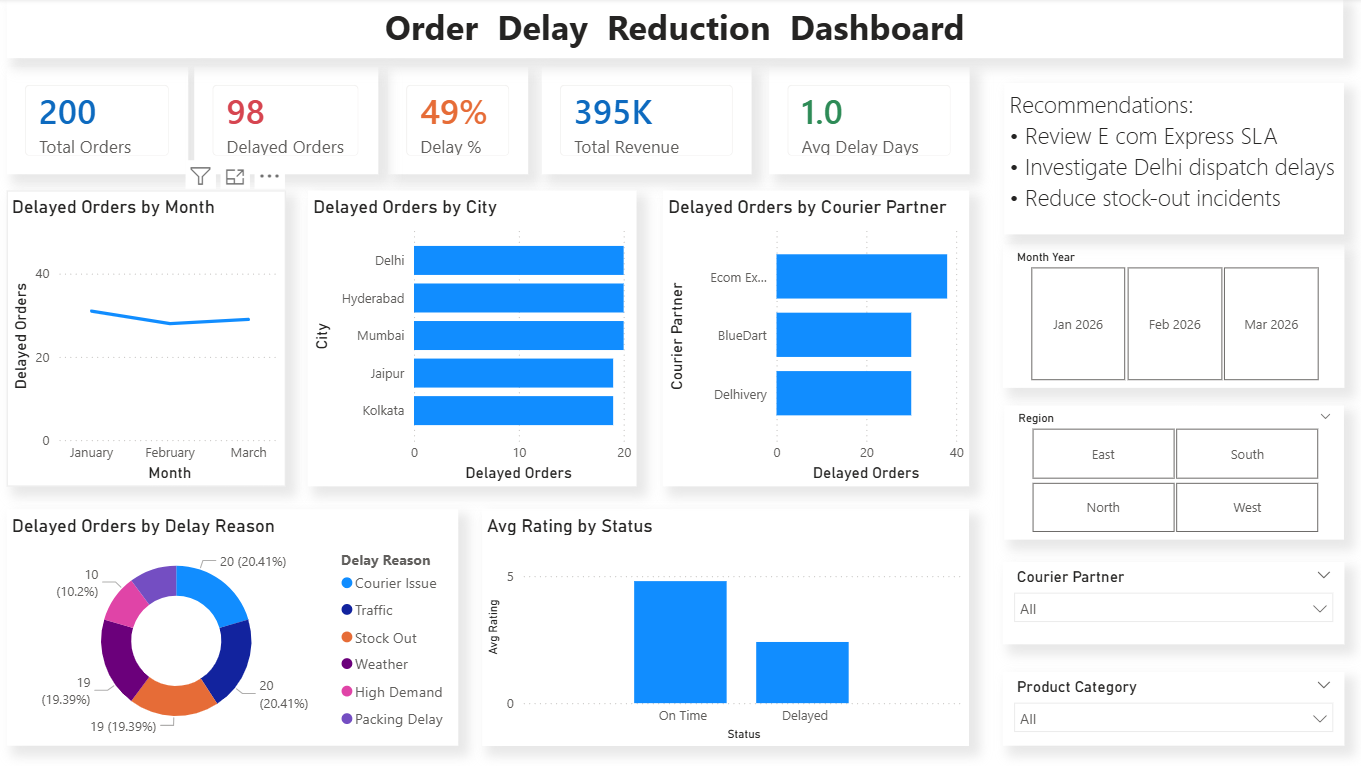

This screenshot's page, from the dashboard's own definition file:
{"tool":"powerbi","page":{"name":"Executive Summary","canvas":[1280,720],"ordinal":0},"visuals":[{"type":"cardVisual","fields":{"Data":["Table1.Total Orders"]},"box":[17.4,64,168.6,100],"z":0},{"type":"cardVisual","fields":{"Data":["Table1.Delay %"]},"box":[372.1,64,130.2,100],"z":1000},{"type":"cardVisual","fields":{"Data":["Table1.Total Revenue"]},"box":[515.1,64,195.3,100],"z":2000},{"type":"cardVisual","fields":{"Data":["Table1.Delayed Orders"]},"box":[191.9,64,170.9,100],"z":3000},{"type":"cardVisual","fields":{"Data":["Table1.Avg Delay Days"]},"box":[726.7,64,186,100],"z":4000},{"type":"lineChart","title":"Delayed Orders by Month ","fields":{"Category":["Table1.Order Date.Variation.Date Hierarchy.Month"],"Y":["Table1.Delayed Orders"]},"box":[17.4,179.1,259.3,275.6],"z":5000},{"type":"clusteredBarChart","fields":{"Category":["Table1.City"],"Y":["Table1.Delayed Orders"]},"box":[297.7,179.1,305.8,275.6],"z":6000},{"type":"clusteredBarChart","fields":{"Category":["Table1.Courier Partner"],"Y":["Table1.Delayed Orders"]},"box":[627.9,179.1,284.9,275.6],"z":7000},{"type":"donutChart","fields":{"Category":["Table1.Delay Reason"],"Y":["Table1.Delayed Orders"]},"box":[17.4,475.6,419.8,219.8],"z":8000},{"type":"columnChart","fields":{"Category":["Table1.Status"],"Y":["Table1.Avg Rating"]},"box":[459.3,475.6,453.5,219.8],"z":9000},{"type":"slicer","fields":{"Values":["Table1.Month Year"]},"box":[944.2,229.1,317.4,133.7],"z":10000},{"type":"slicer","fields":{"Values":["Table1.Region"]},"box":[945.4,379.1,316.3,124.4],"z":11000},{"type":"slicer","fields":{"Values":["Table1.Courier Partner"]},"box":[944.2,524.4,317.4,76.7],"z":12000},{"type":"slicer","fields":{"Values":["Table1.Product Category"]},"box":[944.2,626.7,317.4,68.6],"z":13000},{"type":"textbox","box":[17.4,0,1243,55.8],"z":14000},{"type":"textbox","box":[945.4,79.1,316.3,140.7],"z":15000}]}

Visuals, with their boxes in screenshot pixels (x1, y1, x2, y2), scaled from the page's 1280x720 canvas onto the 1361x766 screenshot:
cardVisual - Table1.Total Orders: bbox=(19, 68, 198, 174)
cardVisual - Table1.Delay %: bbox=(396, 68, 534, 174)
cardVisual - Table1.Total Revenue: bbox=(548, 68, 755, 174)
cardVisual - Table1.Delayed Orders: bbox=(204, 68, 386, 174)
cardVisual - Table1.Avg Delay Days: bbox=(773, 68, 970, 174)
"Delayed Orders by Month " lineChart: bbox=(19, 191, 294, 484)
clusteredBarChart - Table1.City x Table1.Delayed Orders: bbox=(317, 191, 642, 484)
clusteredBarChart - Table1.Courier Partner x Table1.Delayed Orders: bbox=(668, 191, 971, 484)
donutChart - Table1.Delay Reason x Table1.Delayed Orders: bbox=(19, 506, 465, 740)
columnChart - Table1.Status x Table1.Avg Rating: bbox=(488, 506, 971, 740)
slicer - Table1.Month Year: bbox=(1004, 244, 1341, 386)
slicer - Table1.Region: bbox=(1005, 403, 1342, 536)
slicer - Table1.Courier Partner: bbox=(1004, 558, 1341, 640)
slicer - Table1.Product Category: bbox=(1004, 667, 1341, 740)
textbox: bbox=(19, 0, 1340, 59)
textbox: bbox=(1005, 84, 1342, 234)
